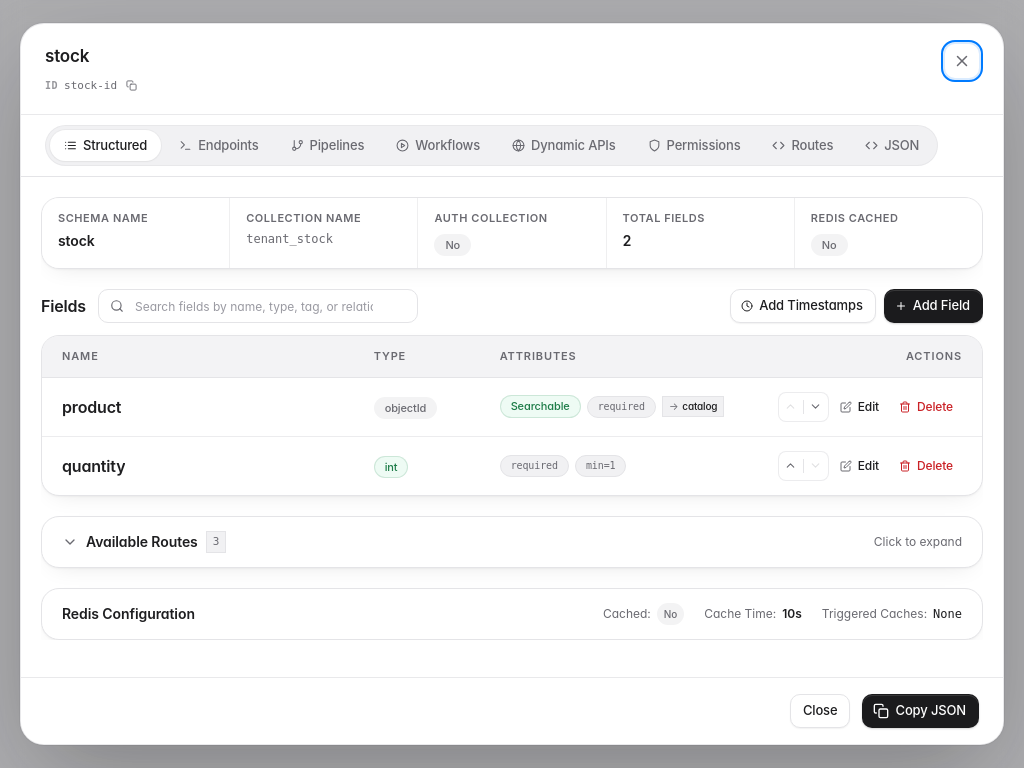
Test case: ContainerDetailsModal › lists swagger-style request paths for available routes
What coordinates should you click on to do the following:
click the tab "Endpoints"
I would click on:
 (219, 145)
Its box is [165,130,272,161].
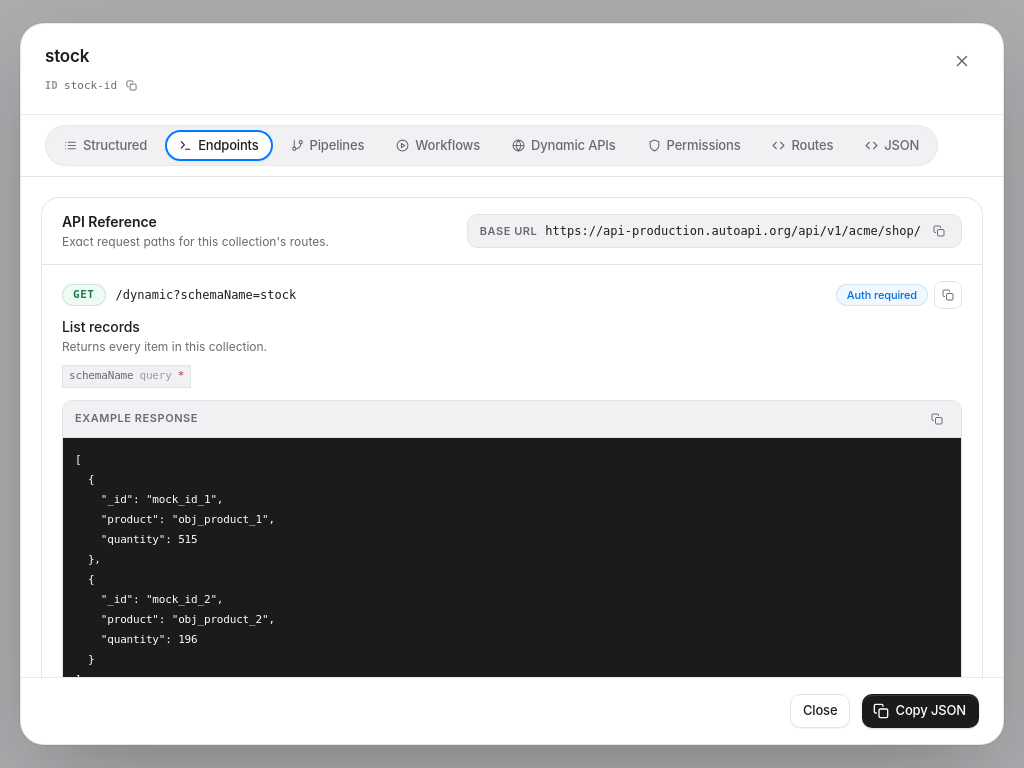
Result: the text "https://api-production.autoapi.org/api/v1/acme/shop/" is shown at [545,223,921,239]
Result: the text "Example response" is shown at [75,410,198,427]
